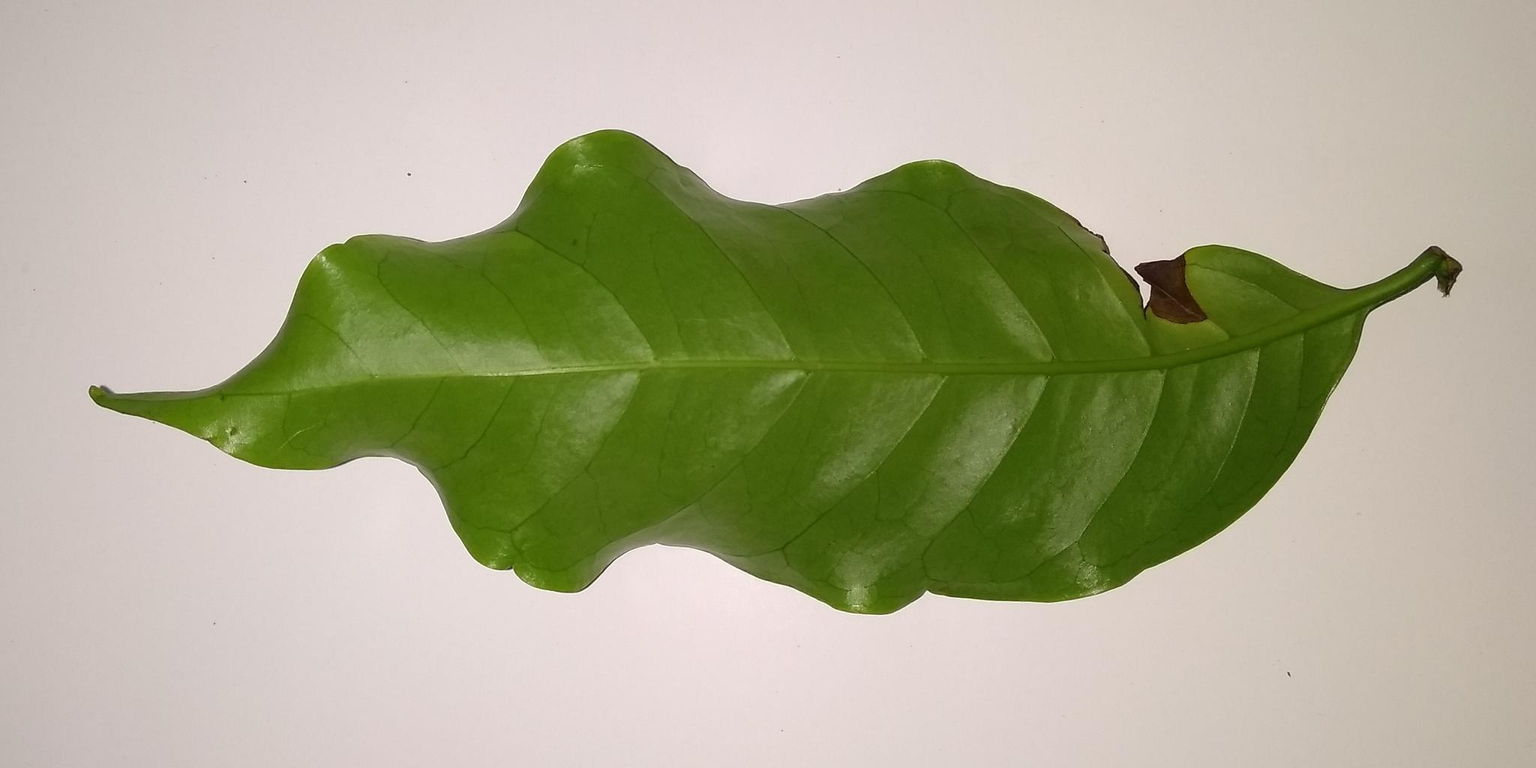Phoma: (1073, 216, 1221, 339)
